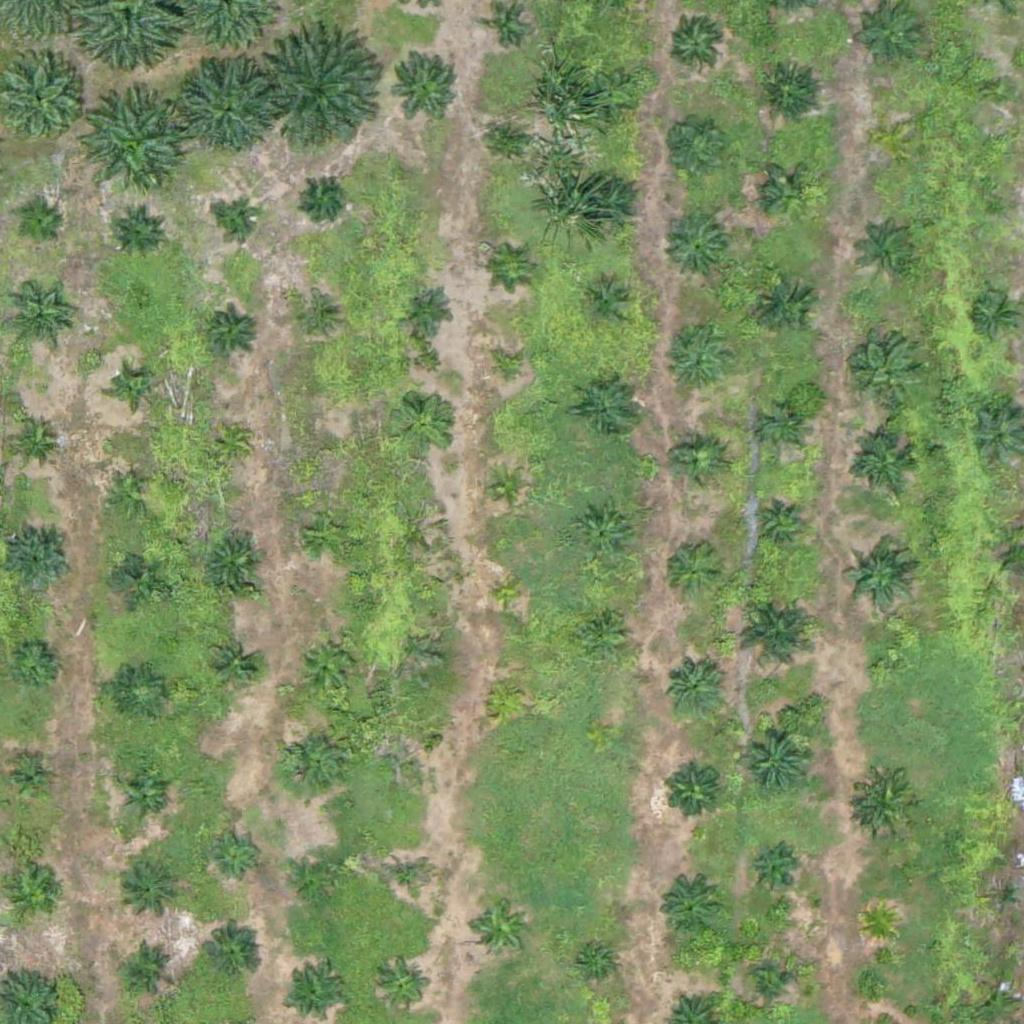Kelapa_Sawit: (264, 31, 389, 156), (74, 94, 186, 207), (175, 55, 275, 156), (734, 590, 821, 678), (842, 541, 917, 617), (656, 111, 731, 187), (737, 721, 812, 796), (388, 47, 463, 122), (660, 539, 723, 602), (665, 332, 728, 395), (663, 656, 726, 719), (854, 773, 917, 836), (121, 859, 184, 922), (6, 292, 69, 355), (279, 730, 342, 793), (578, 375, 641, 438), (469, 898, 532, 961), (8, 528, 71, 591), (574, 505, 637, 568), (579, 175, 642, 238), (859, 4, 922, 67), (758, 59, 821, 122), (200, 928, 263, 991), (664, 216, 726, 279), (657, 876, 719, 939), (661, 759, 723, 822), (754, 276, 816, 339), (854, 433, 916, 496), (856, 343, 919, 405), (862, 221, 924, 284), (203, 532, 265, 595), (297, 633, 359, 696), (393, 393, 455, 456), (378, 959, 428, 1010), (115, 667, 165, 718), (583, 279, 633, 330), (113, 549, 163, 600), (590, 73, 640, 124), (9, 414, 59, 465), (10, 638, 60, 689), (208, 638, 258, 689), (382, 853, 432, 904), (294, 851, 344, 902), (212, 828, 262, 879), (120, 770, 170, 821), (672, 438, 722, 488), (744, 847, 794, 897), (764, 168, 814, 218), (971, 289, 1021, 339), (113, 207, 163, 257), (9, 872, 59, 922), (207, 305, 257, 355), (577, 606, 627, 656), (672, 20, 722, 70), (745, 961, 795, 1011), (403, 284, 453, 334), (303, 509, 353, 559), (106, 469, 156, 519), (14, 202, 64, 252), (123, 942, 173, 992), (5, 755, 55, 805), (753, 499, 802, 550), (497, 249, 535, 287), (304, 177, 342, 215), (860, 904, 898, 942), (978, 984, 1016, 1022), (490, 350, 528, 388), (488, 469, 526, 507), (490, 576, 528, 614), (486, 676, 524, 714), (212, 423, 250, 461), (115, 368, 153, 406), (577, 947, 615, 985), (221, 203, 258, 241), (763, 408, 800, 446), (298, 301, 335, 339), (310, 430, 347, 468), (393, 728, 430, 766), (488, 11, 525, 48), (492, 121, 529, 158), (985, 191, 1010, 216), (985, 75, 1010, 100), (880, 129, 905, 154), (870, 656, 895, 681)
